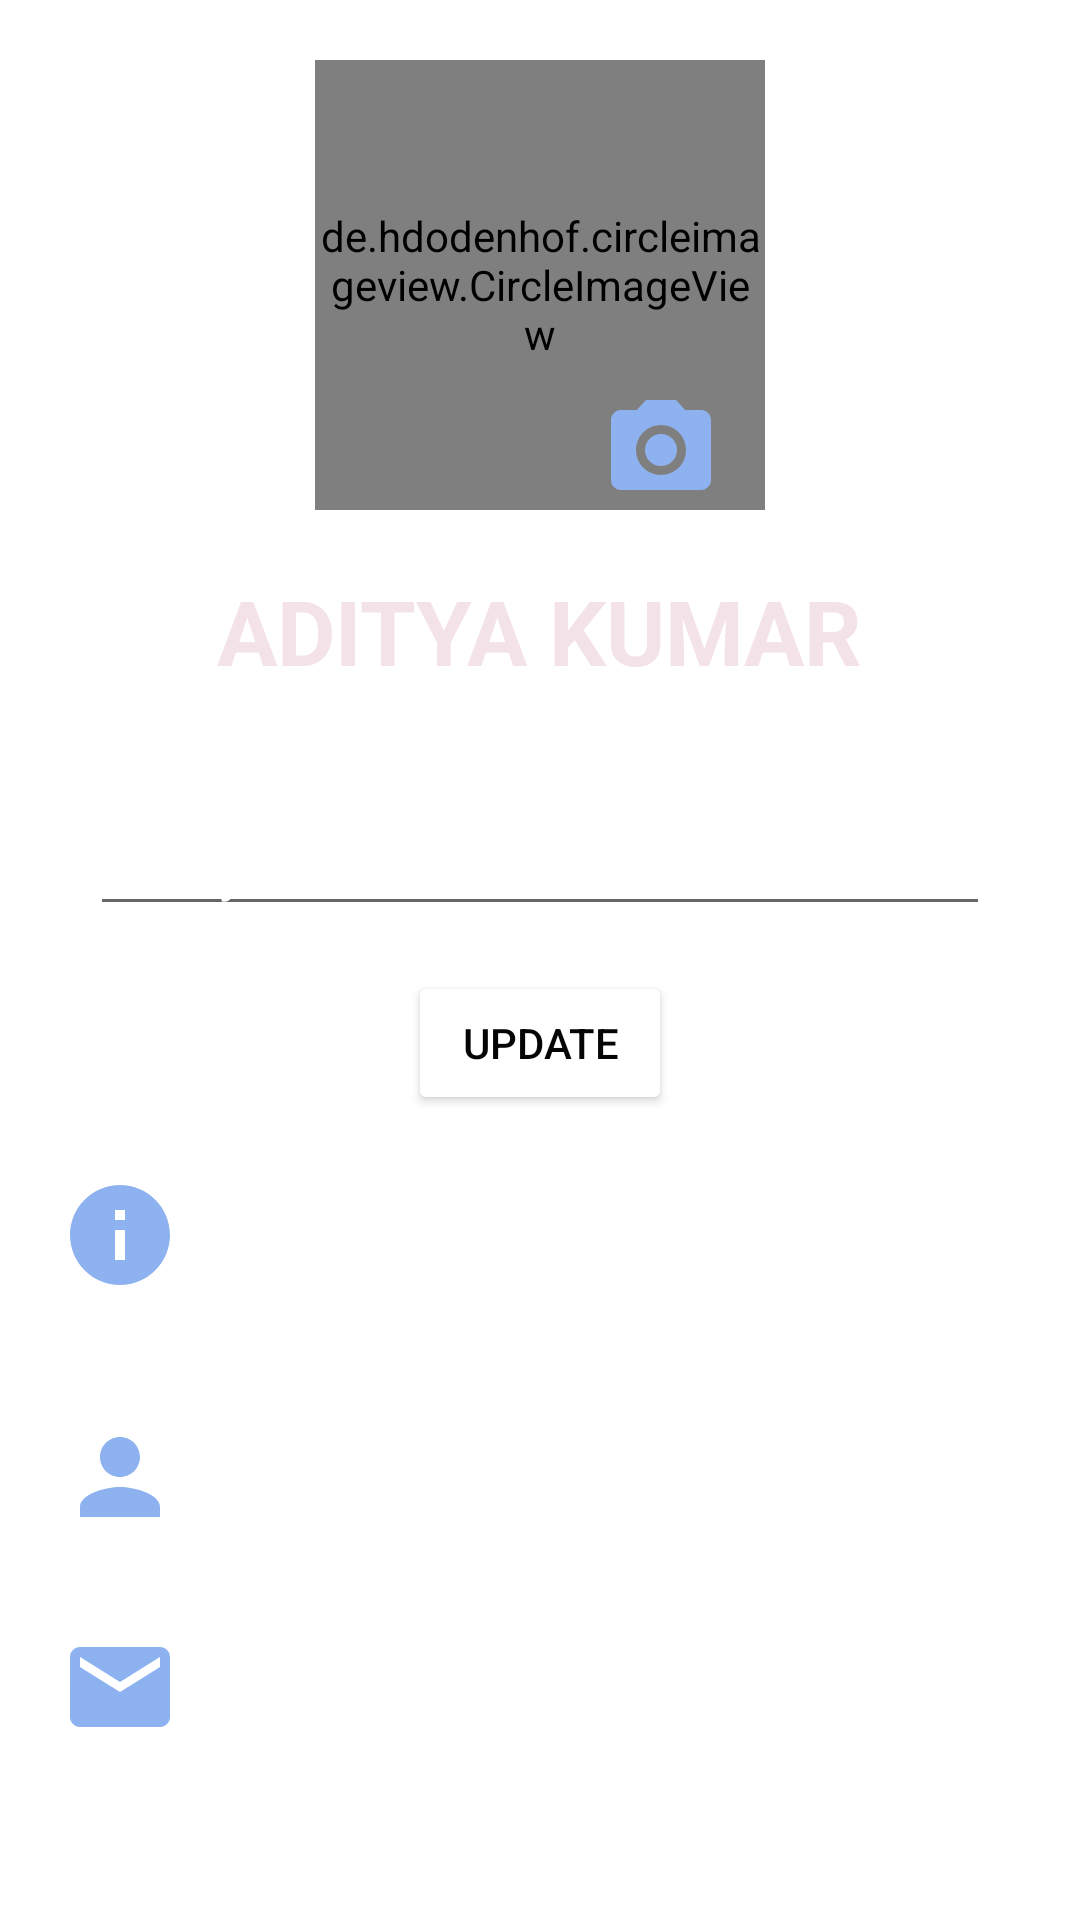

Named icons in this screenshot (1080×1920) and their bounding boxes, (x1, y1, x2, y2):
camera: (611, 400, 711, 490)
email: (70, 1647, 170, 1727)
info: (70, 1185, 170, 1285)
person: (80, 1437, 160, 1517)
